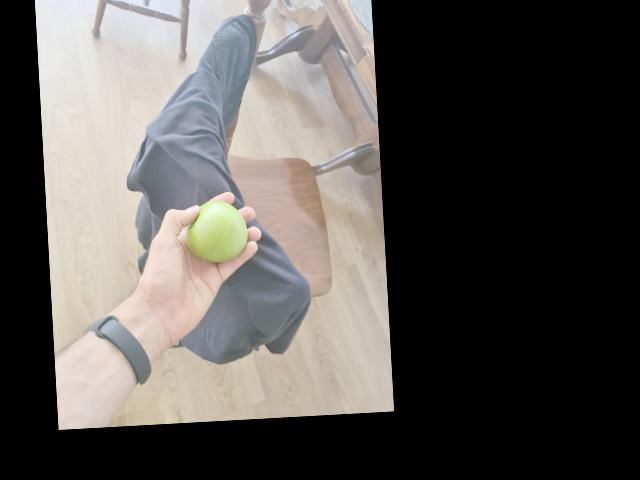apple: (180, 201, 249, 267)
